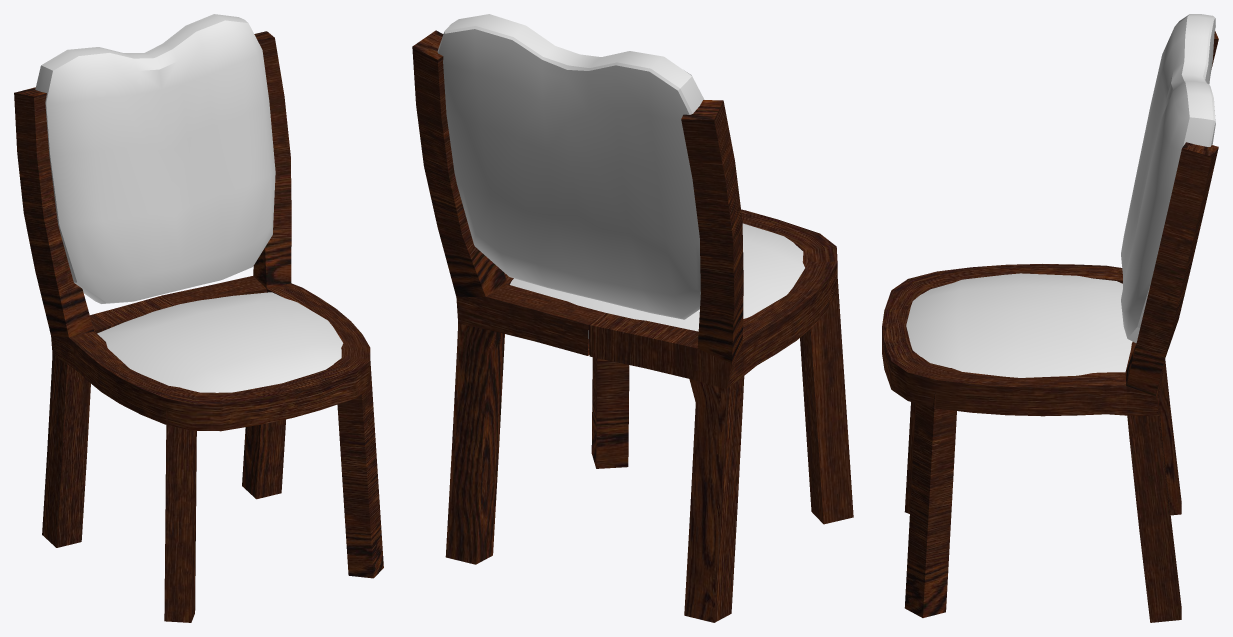
Rendered from Chair.fbx.
3 views of the same model, side by side, from view 1: azimuth 30°, elevation 25°; view 2: azimuth 150°, elevation 25°; view 3: azimuth 270°, elevation 25° (orthographic). The views are drawn at different scales.
Visible parts, largest first — view 1: chair; view 2: chair; view 3: chair.
Boxes of the visible parts, x1,y1,x2,y2 form: chair: (14,14,383,622); chair: (412,14,853,622); chair: (882,14,1218,622).
Bounding box in the file's own units: 56.8 × 98.32 × 59.04.
